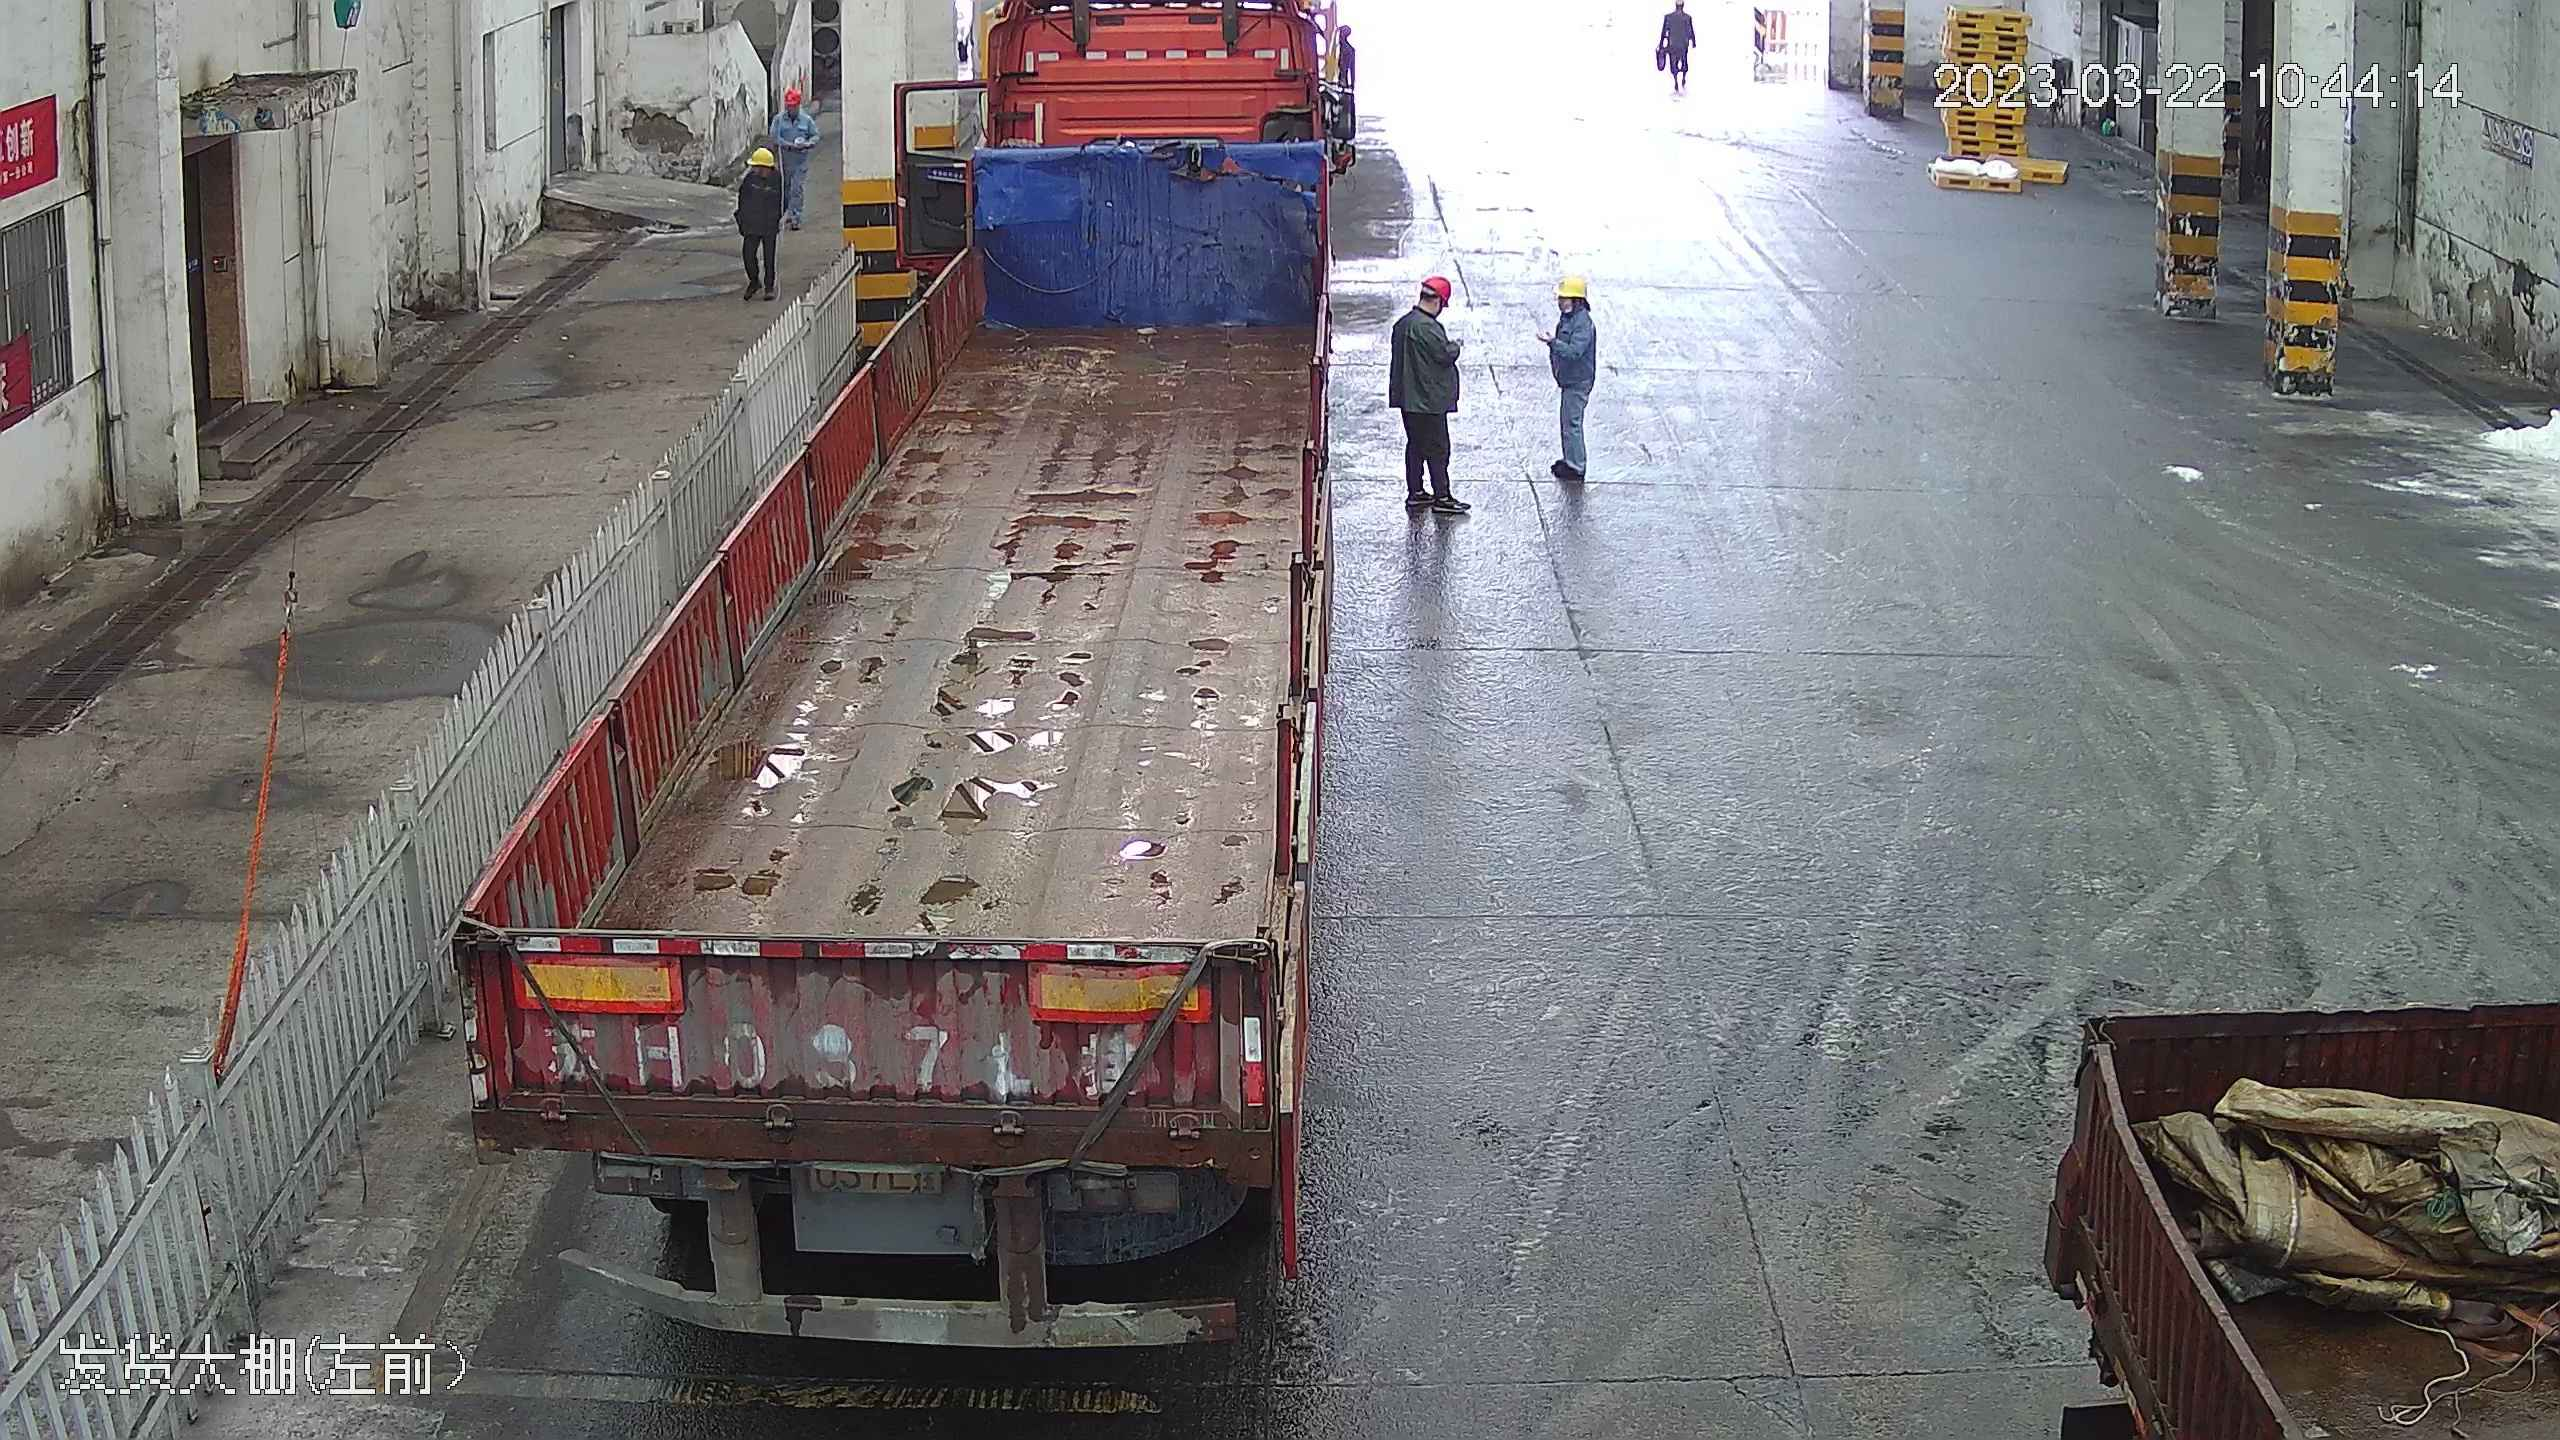head: (1389, 269, 1458, 350), (1547, 273, 1598, 339), (735, 144, 781, 198), (777, 84, 813, 128)
helmet: (1418, 270, 1454, 301), (1555, 272, 1590, 298), (745, 147, 774, 169), (783, 84, 805, 103)
people: (1385, 268, 1473, 528), (1542, 271, 1602, 489), (723, 140, 787, 303), (765, 82, 816, 204)
truck: (417, 1, 1378, 1359), (2031, 991, 2560, 1440)
